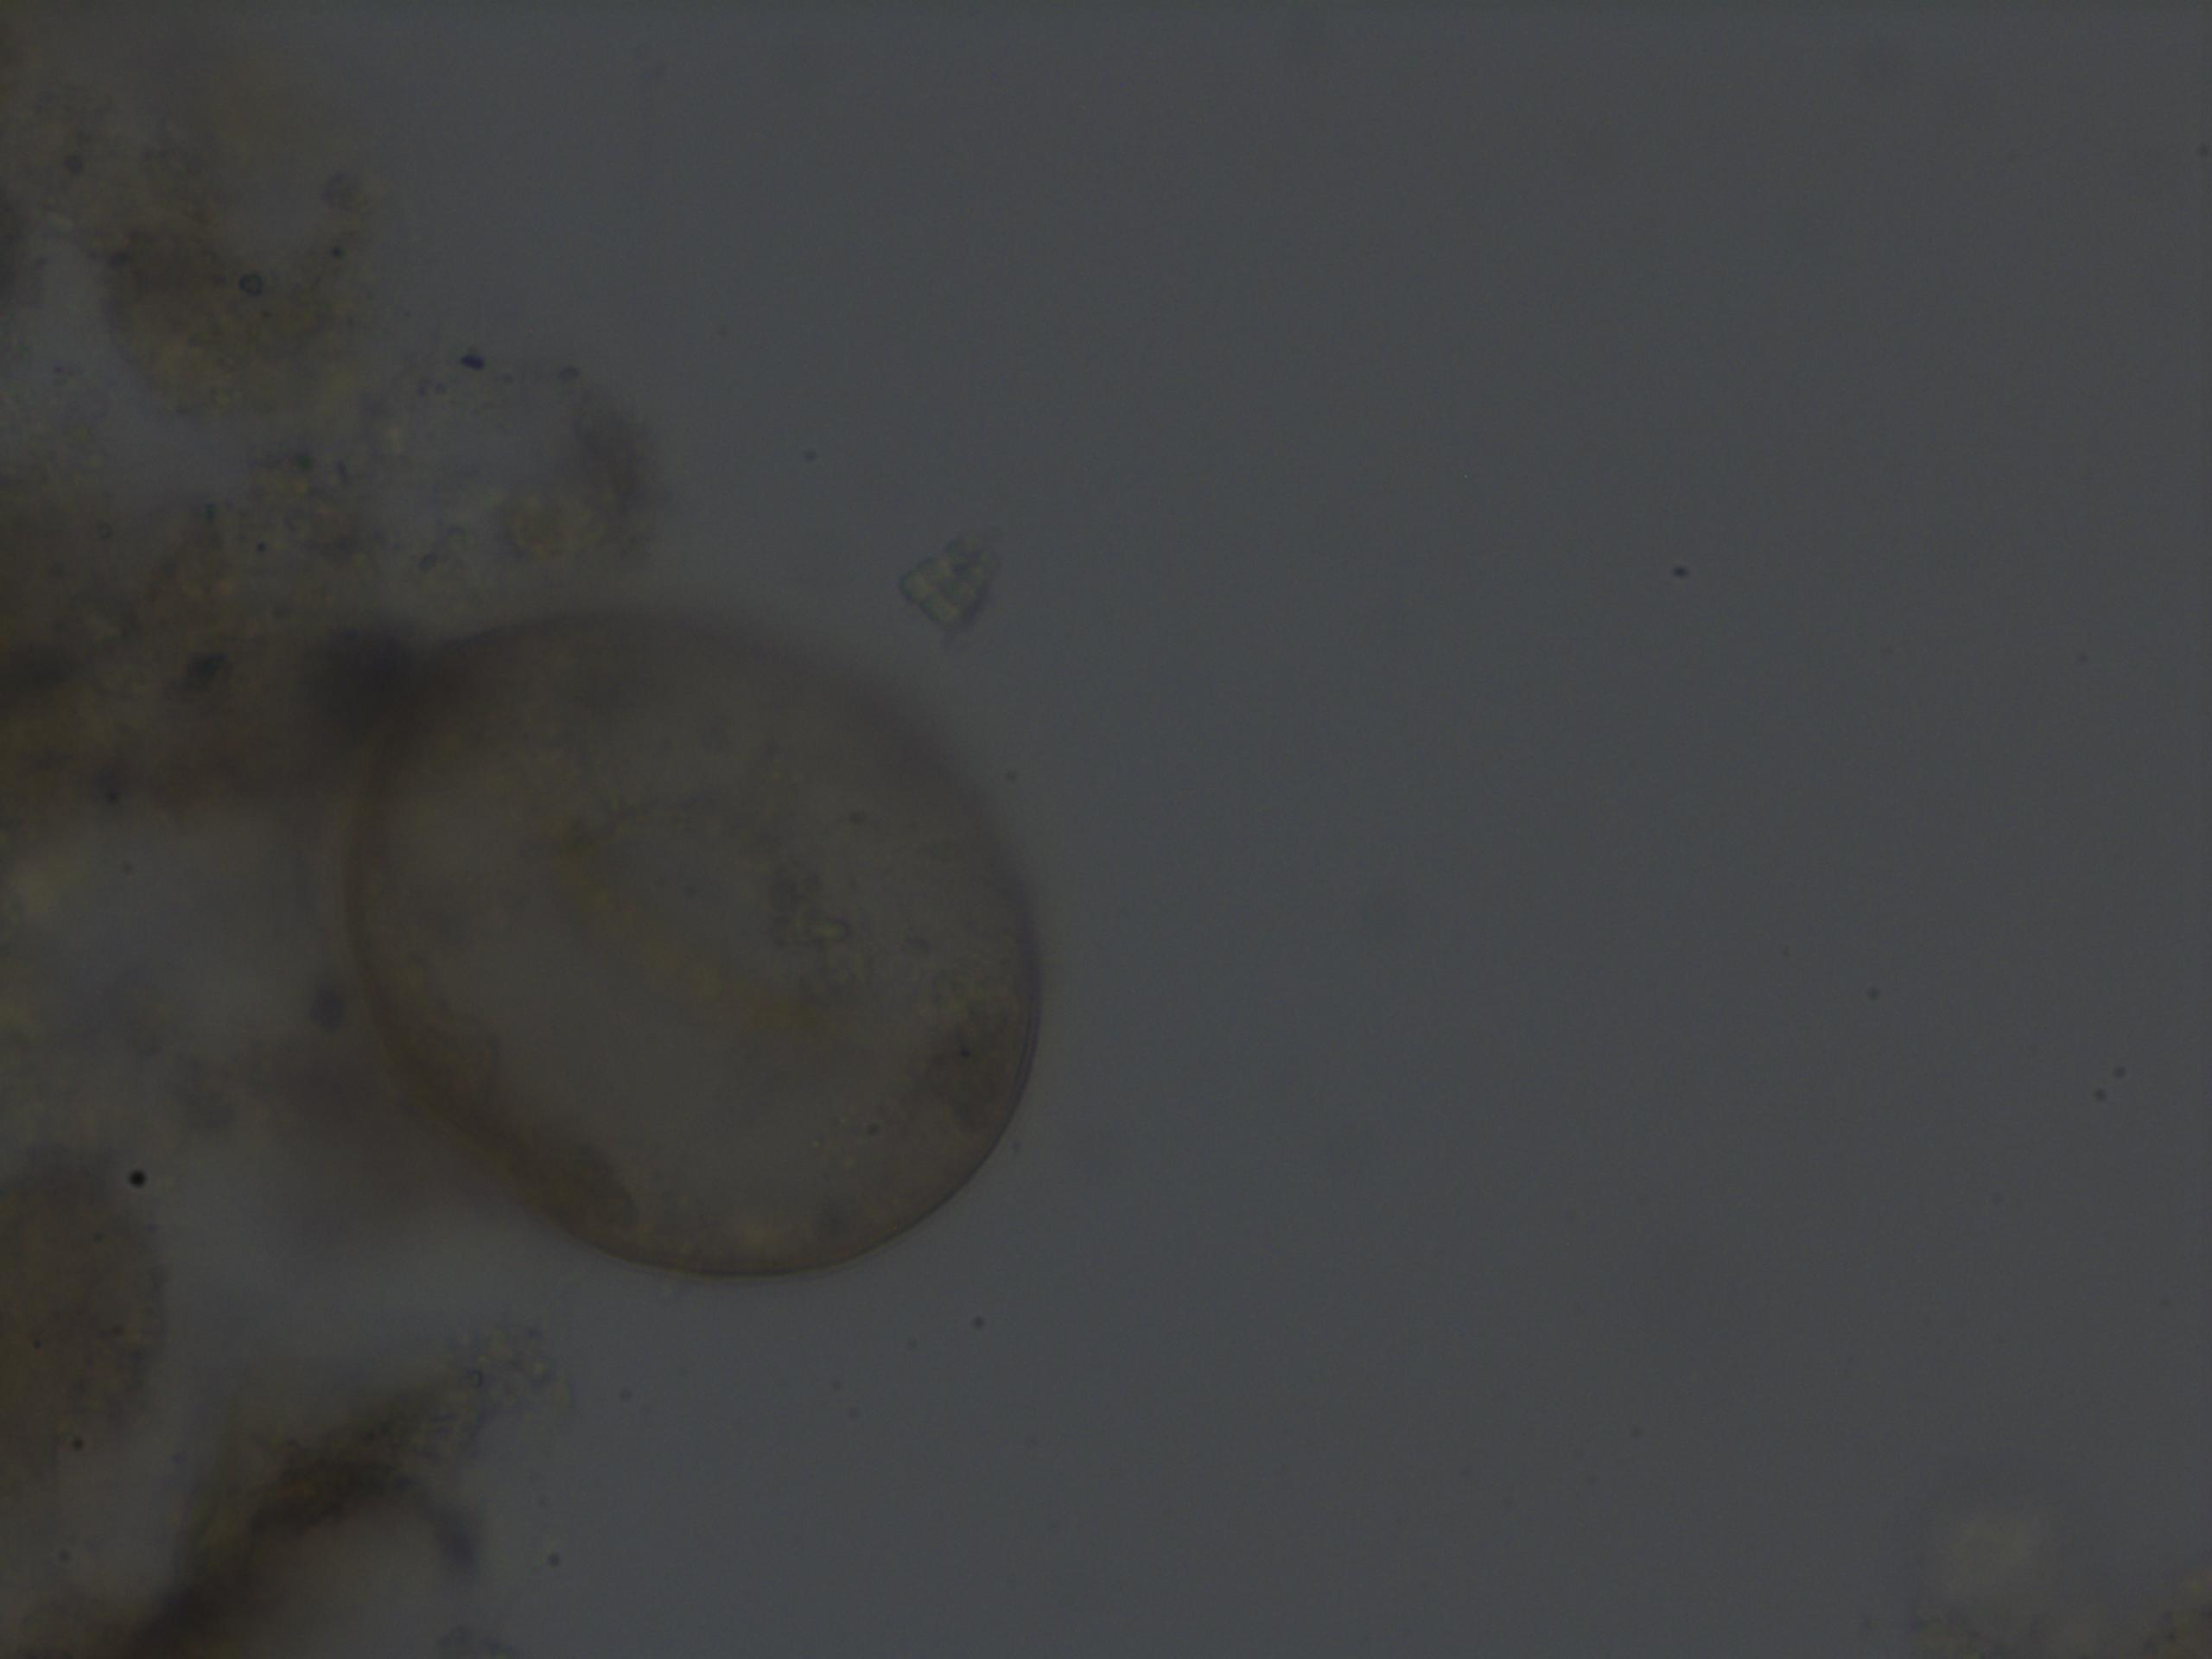protozoa: (327, 592, 1064, 1288)
